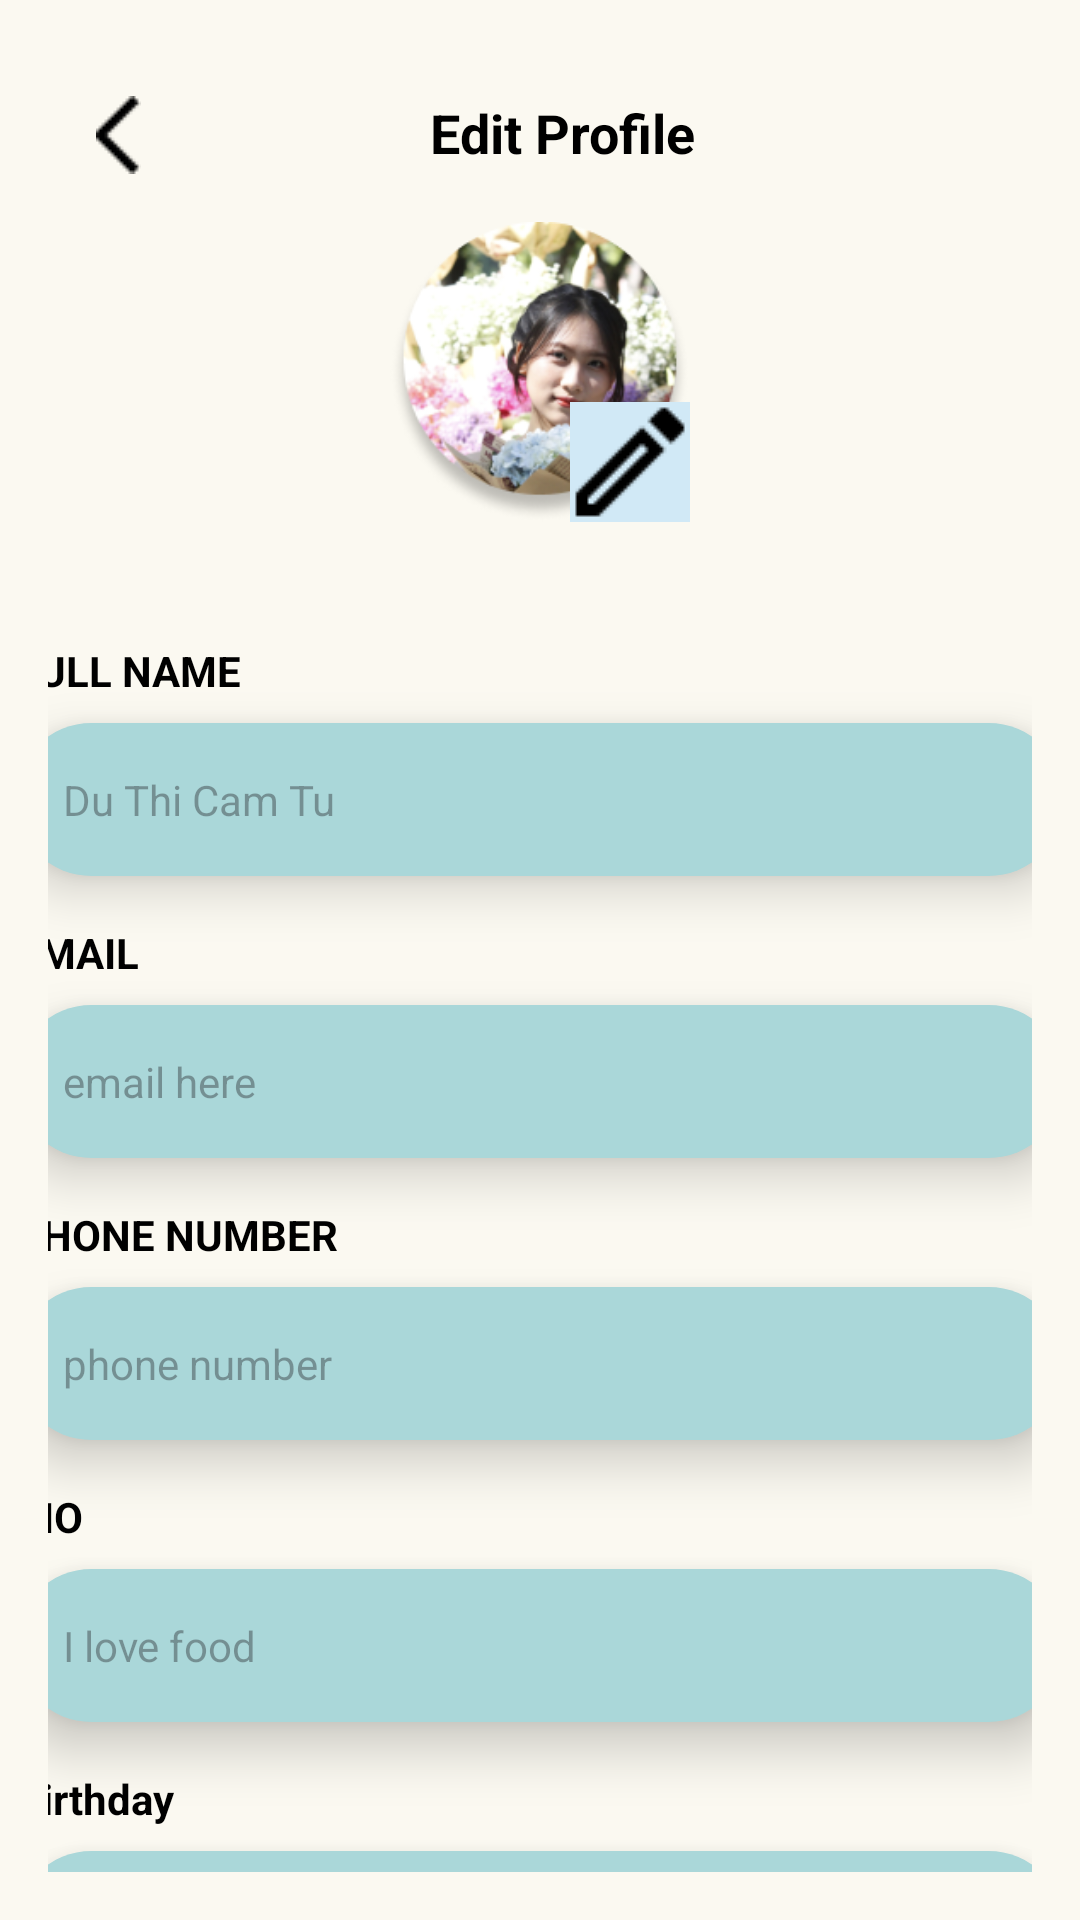

Screen size 1080w x 1920h. Icon name, then its center in pixels as (x=x, y=y):
Go back: (x=118, y=135)
